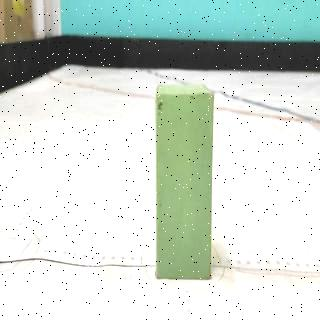greenbox: (155, 86, 212, 279)
